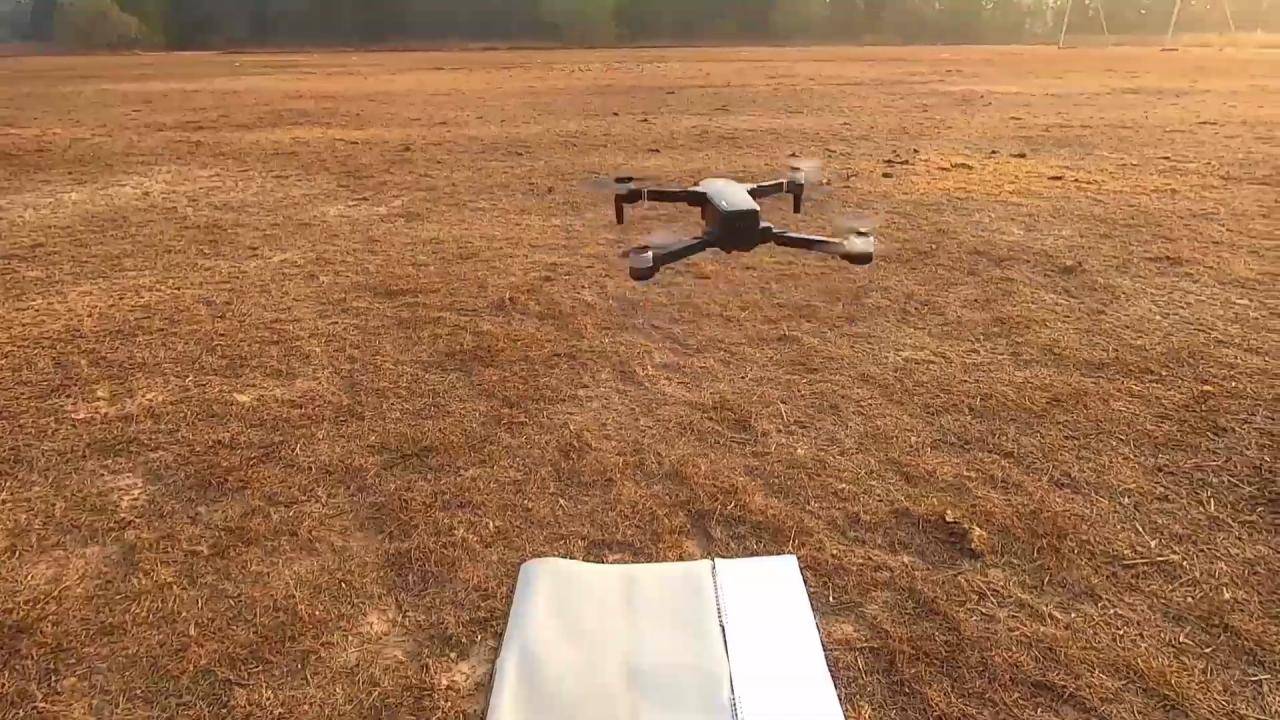Drone: (594, 146, 886, 288)
